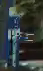Parking: (6, 0, 41, 70)
